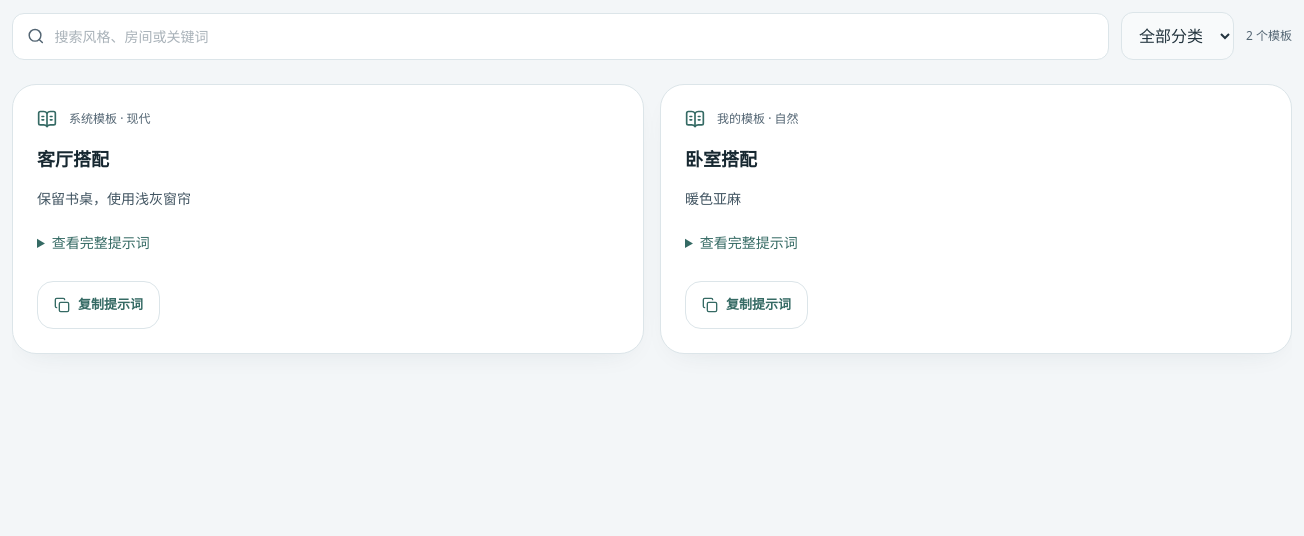
it: prompt library › copies the complete template and offers selectable text if clipboard access fails
Click the button with aria-label "复制客厅搭配": click(98, 305) x1=37 y1=281 x2=160 y2=329
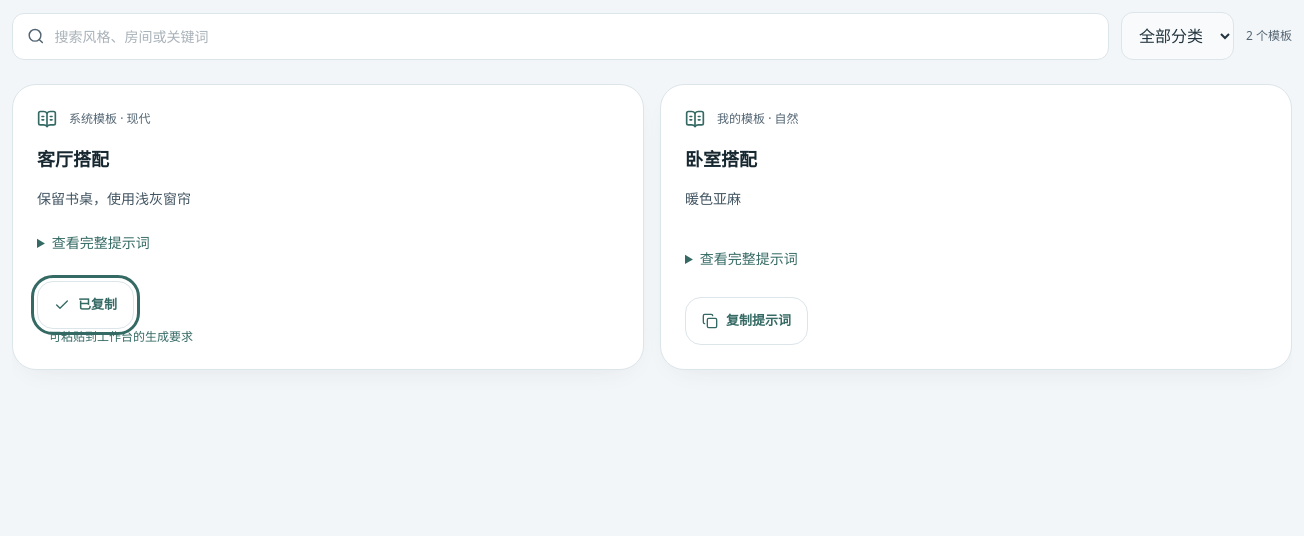
Check: the button "已复制" is shown, box x1=37 y1=281 x2=134 y2=329
Click the button with aria-label "复制卧室搭配": click(746, 321) x1=685 y1=297 x2=808 y2=345
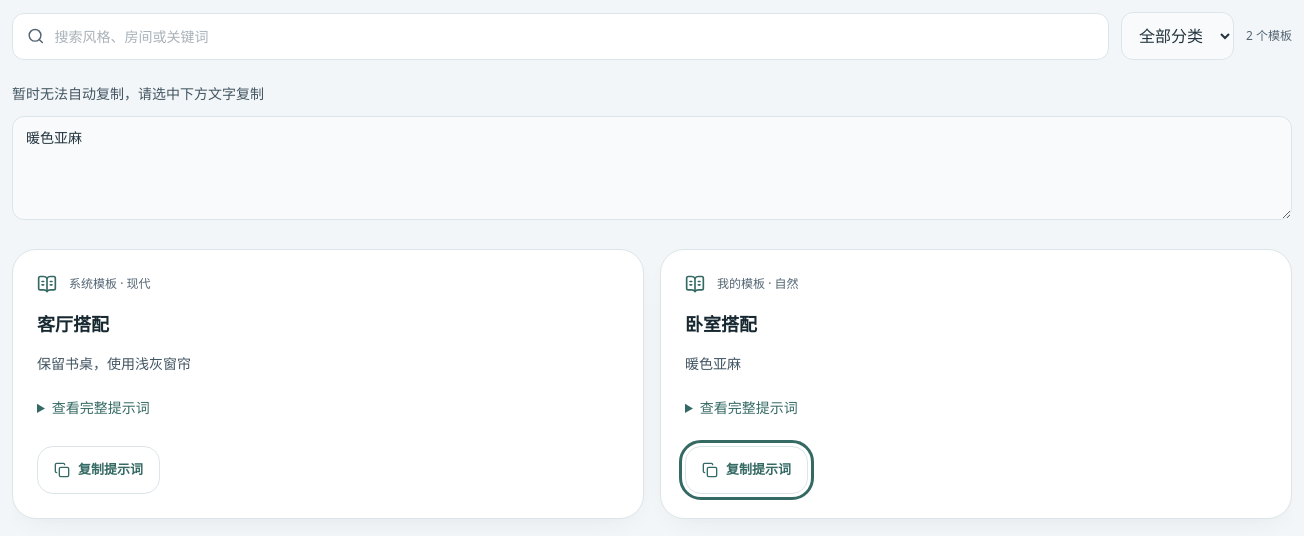
Check: the text box named "手动复制提示词" holds "暖色亚麻", box x1=12 y1=116 x2=1292 y2=220
